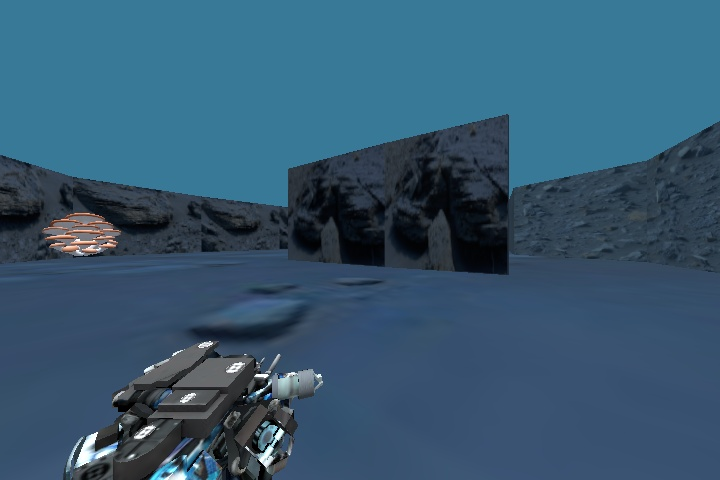mushrooms: (40, 201, 126, 264)
